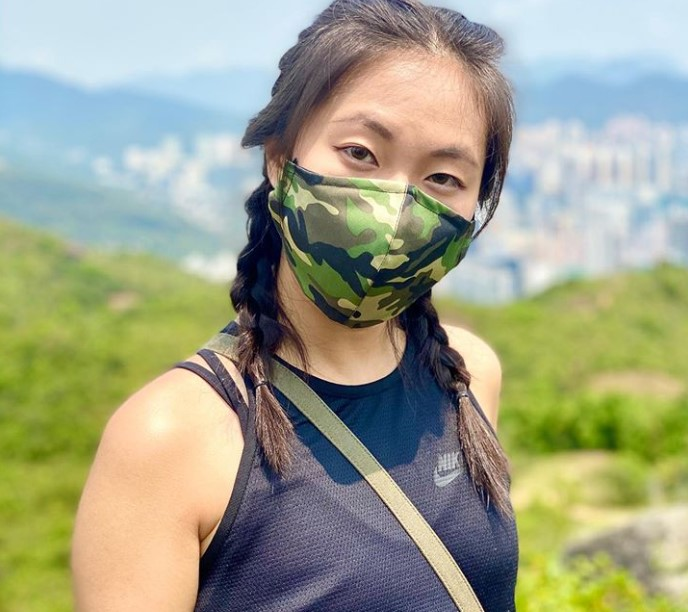face_with_mask: (267, 10, 500, 333)
